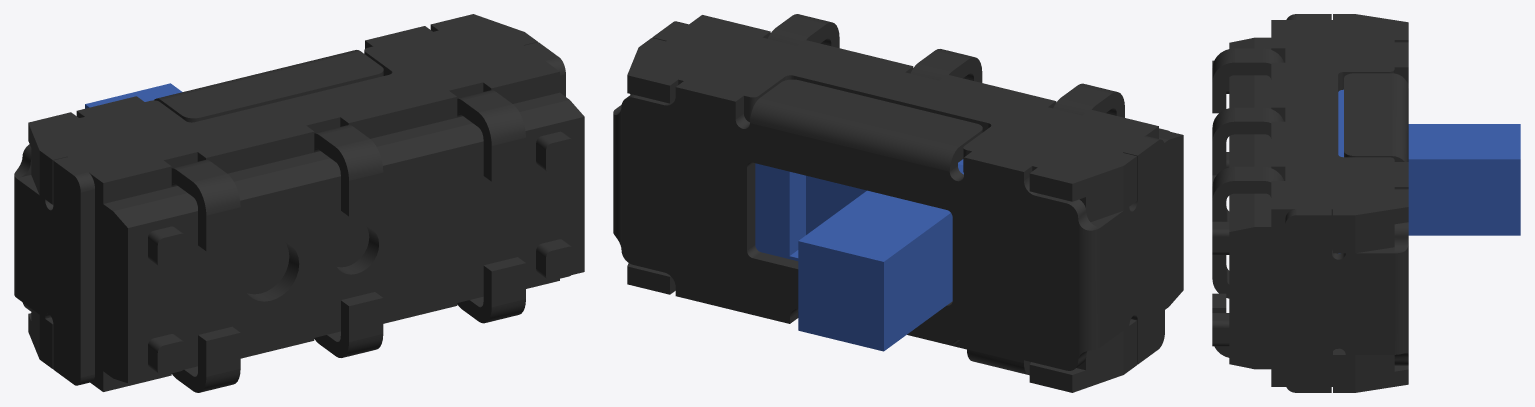
File: sfe-slide_dpdt_smd_9.0x3.6mm.glb
The picture shows the model from 3 angles, left to right: view 1: azimuth 30°, elevation 25°; view 2: azimuth 150°, elevation 25°; view 3: azimuth 270°, elevation 25°; orthographic projection. The views are drawn at different scales.
Visible parts, largest first — view 1: 0_0_0_0, 0.08333333333333333_0.08333333333333333_0.4166666666666667_0; view 2: 0_0_0_0, 0.08333333333333333_0.08333333333333333_0.4166666666666667_0; view 3: 0_0_0_0, 0.08333333333333333_0.08333333333333333_0.4166666666666667_0.
Boxes of the visible parts, x1=… form: 0_0_0_0: x1=14, y1=14, x2=584, y2=392; 0.08333333333333333_0.08333333333333333_0.4166666666666667_0: x1=85, y1=83, x2=182, y2=108; 0_0_0_0: x1=613, y1=14, x2=1183, y2=392; 0.08333333333333333_0.08333333333333333_0.4166666666666667_0: x1=755, y1=159, x2=963, y2=351; 0_0_0_0: x1=1212, y1=14, x2=1408, y2=392; 0.08333333333333333_0.08333333333333333_0.4166666666666667_0: x1=1338, y1=89, x2=1520, y2=253.
Size of the model in its own units: 0.85 by 0.35 by 0.55.
